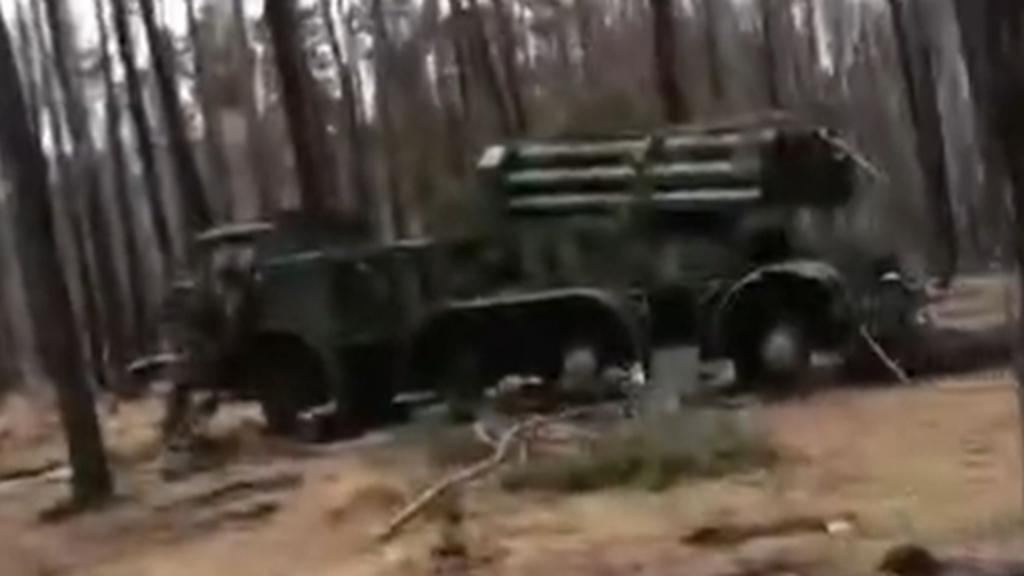MLRS: (134, 80, 914, 458)
